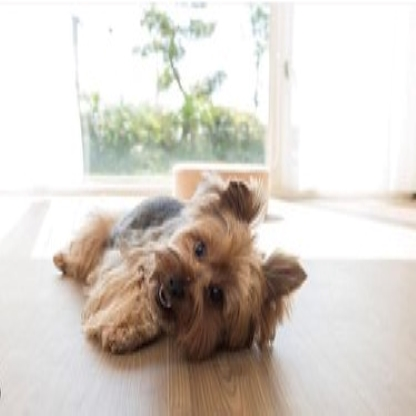yorkshire: (51, 169, 309, 363)
